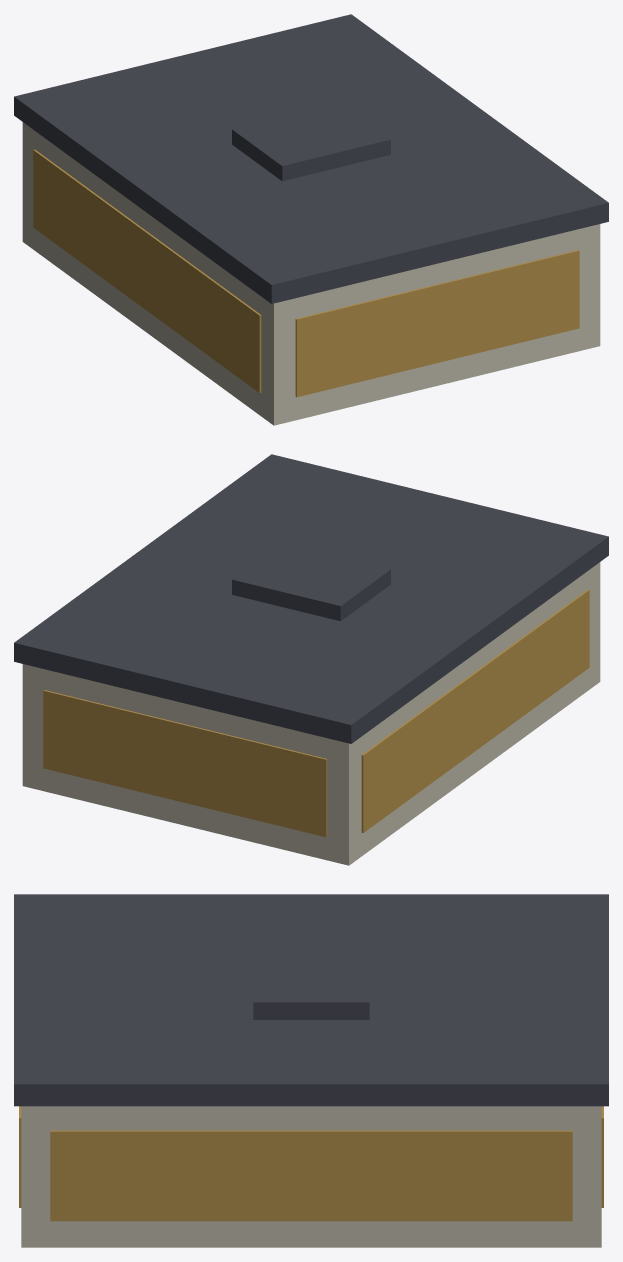
The model's file is shop_a.obj.
The picture shows the model from 3 angles, top to bottom: view 1: azimuth 30°, elevation 25°; view 2: azimuth 150°, elevation 25°; view 3: azimuth 270°, elevation 25°; orthographic projection. The views are drawn at different scales.
Parts seen in each view (by area): view 1: Cube; view 2: Cube; view 3: Cube.
Part boxes in pixels (x1,y1,x2,y2): Cube: (14, 14, 608, 425); Cube: (14, 454, 608, 865); Cube: (14, 894, 608, 1247).
Bounding box in the file's own units: 9.3 × 4.2 × 12.3.
